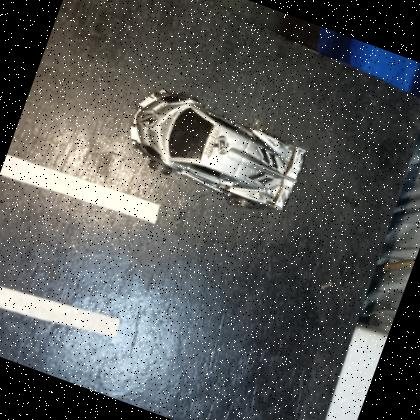Car: (130, 91, 305, 209)
